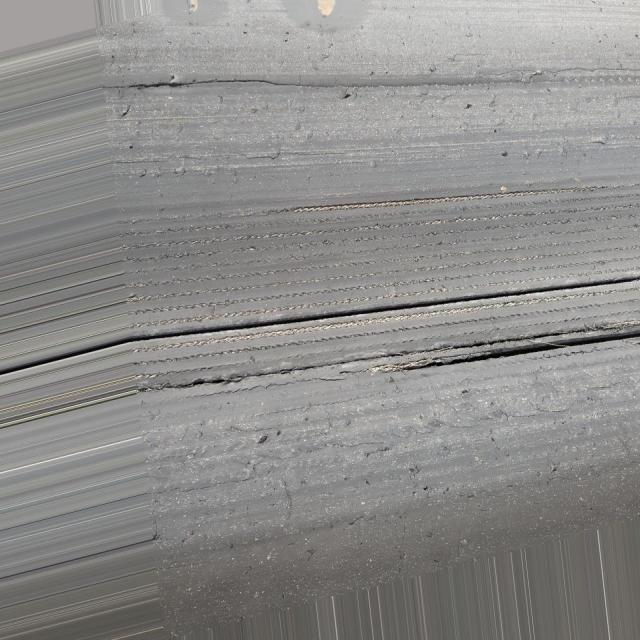Tear: (149, 313, 636, 400), (144, 268, 640, 347), (128, 53, 545, 98)
